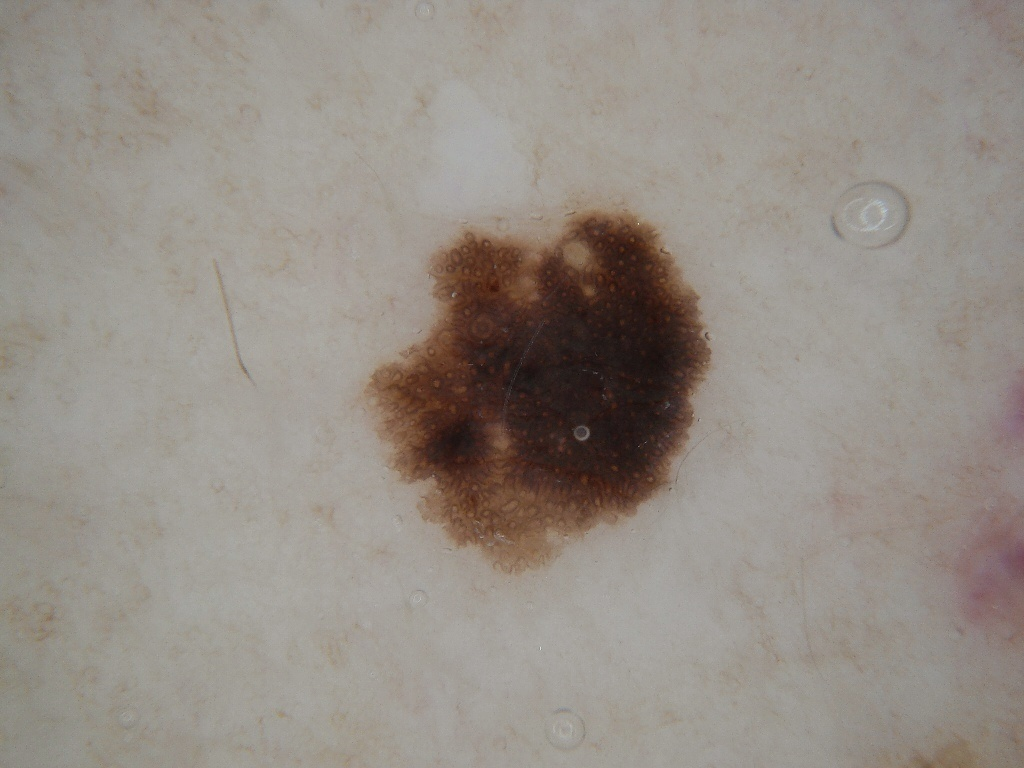Detected Lesion: (362, 203, 716, 583)
